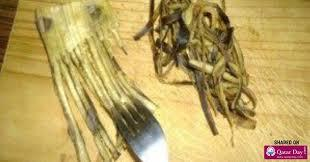Organic: (31, 6, 310, 152)
